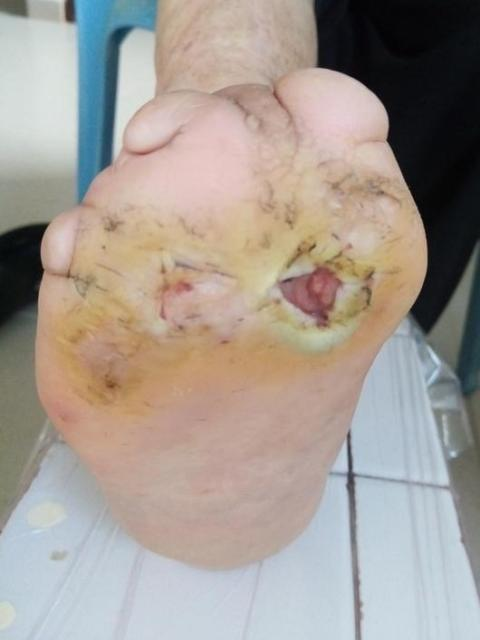wound: (260, 247, 362, 334), (139, 252, 232, 341), (90, 350, 134, 392)
